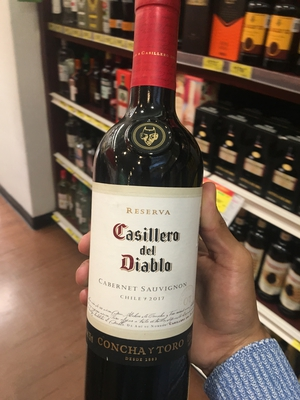casillero del diablo cabernet sauvignon: (83, 9, 201, 400)
